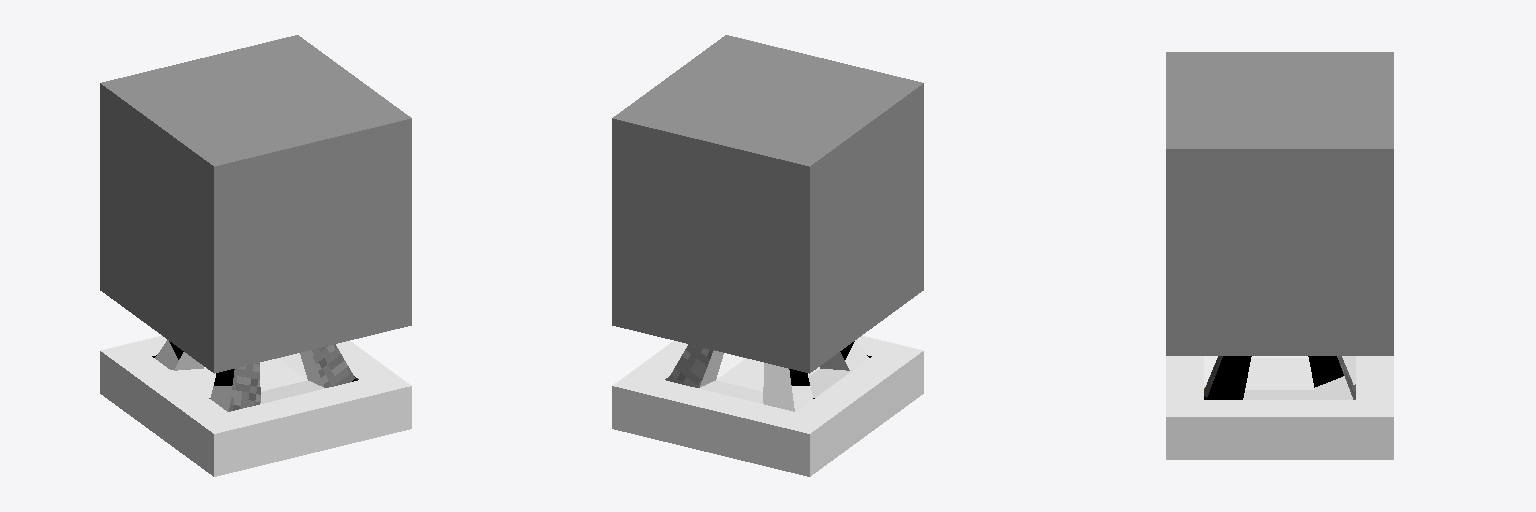
The picture shows the model from 3 angles: view 1: azimuth 30°, elevation 25°; view 2: azimuth 150°, elevation 25°; view 3: azimuth 270°, elevation 25°; orthographic projection.
Visible parts, largest first — view 1: Minecraft_Block_Cube, main; view 2: Minecraft_Block_Cube, main; view 3: Minecraft_Block_Cube, main.
Boxes of the visible parts, <box> form: Minecraft_Block_Cube: <box>100,35,411,373</box>; main: <box>100,336,411,476</box>; Minecraft_Block_Cube: <box>612,35,923,373</box>; main: <box>612,336,923,476</box>; Minecraft_Block_Cube: <box>1166,52,1393,355</box>; main: <box>1166,356,1393,459</box>.
Size of the model in its own units: 1 by 1.5 by 1.
Materials: 3 (1 with a texture image).